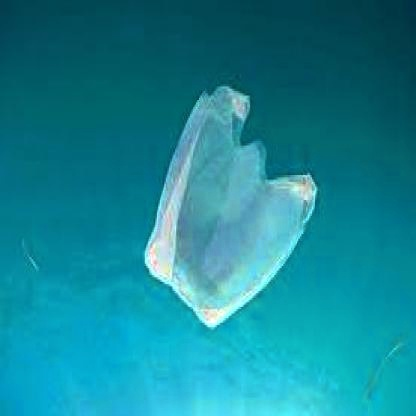pbag: (141, 84, 320, 334)
